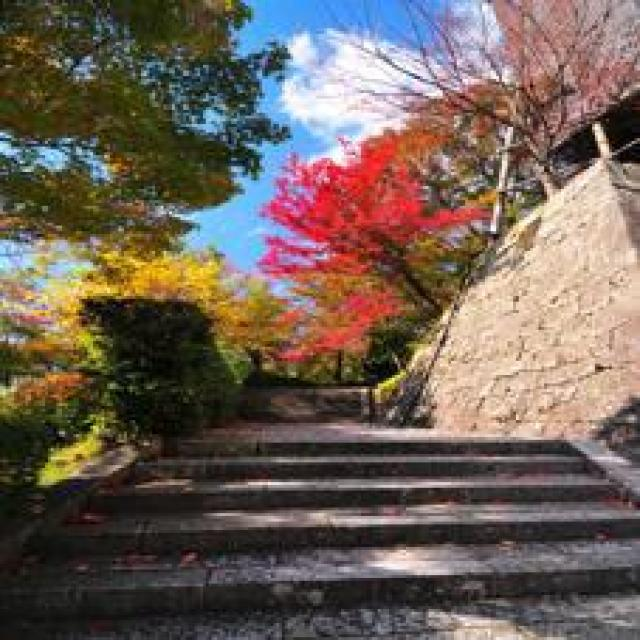upstair: (88, 430, 489, 621)
